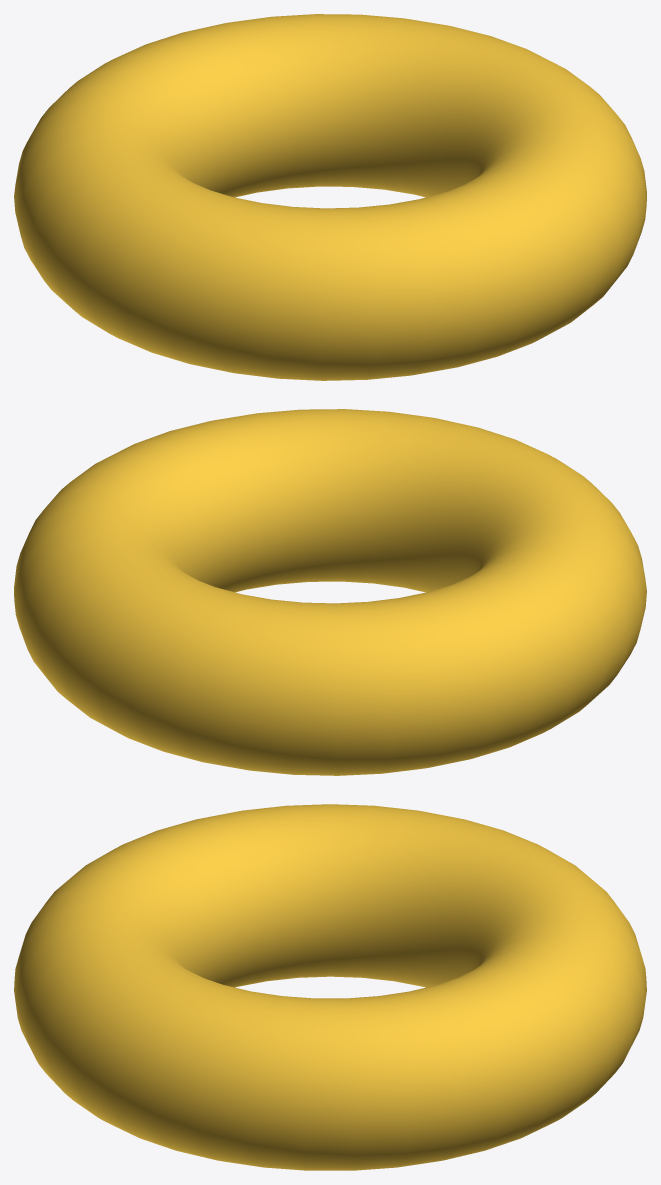
File: YellowRing.dae
3 views of the same model, one above another, from view 1: azimuth 30°, elevation 25°; view 2: azimuth 150°, elevation 25°; view 3: azimuth 270°, elevation 25° (orthographic).
Parts seen in each view (by area): view 1: ID2; view 2: ID2; view 3: ID2.
Part boxes in pixels (x1,y1,x2,y2): ID2: [14, 14, 646, 380]; ID2: [14, 409, 646, 775]; ID2: [14, 804, 646, 1170].
Size of the model in its own units: 0.1047 by 0.1047 by 0.0285.
